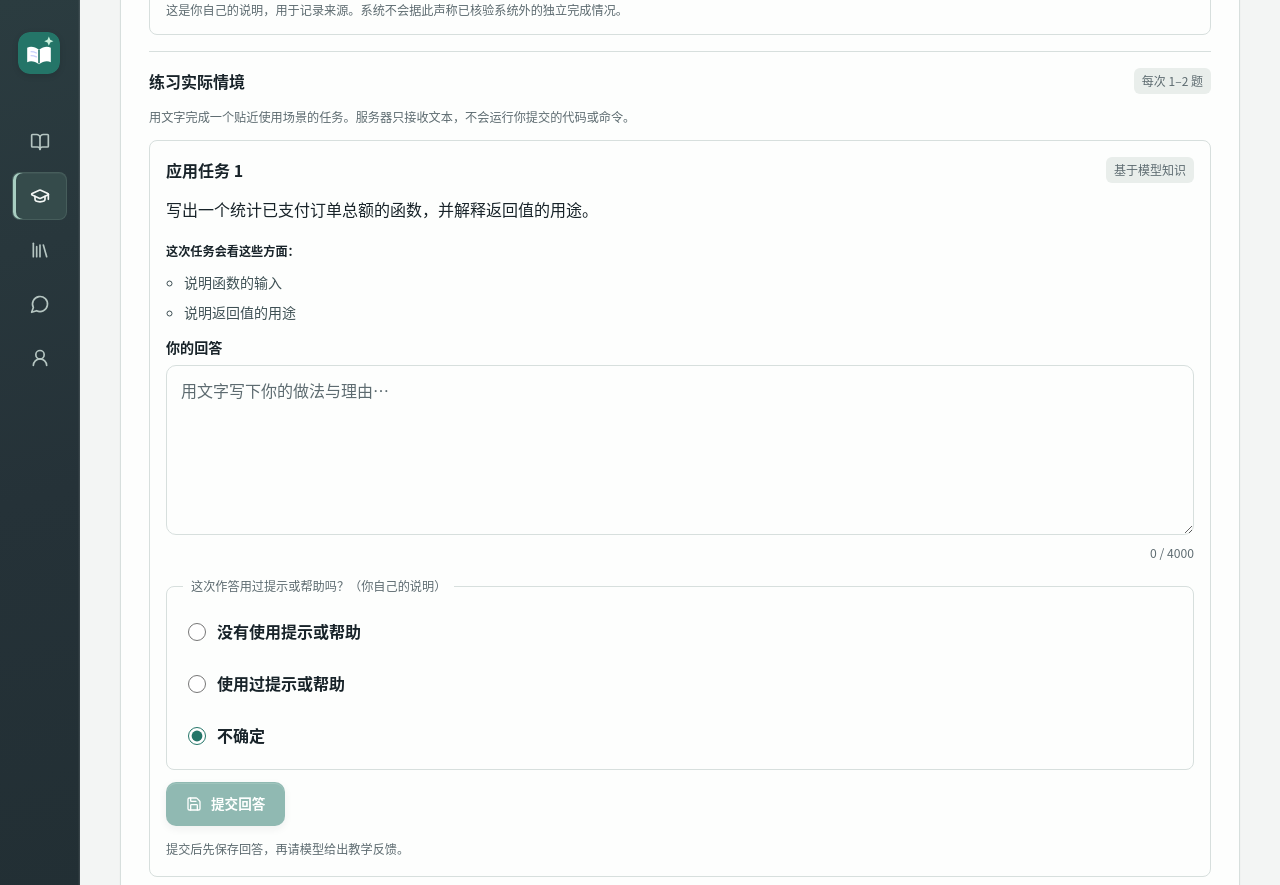
Test: course text application task › recovers a lost answer receipt through the assessment without another POST
(page scrolled)
Type "先过滤已支付订单，再汇总金额。" into the text box labelled "你的回答" at [680, 450], box [166, 365, 1194, 535]
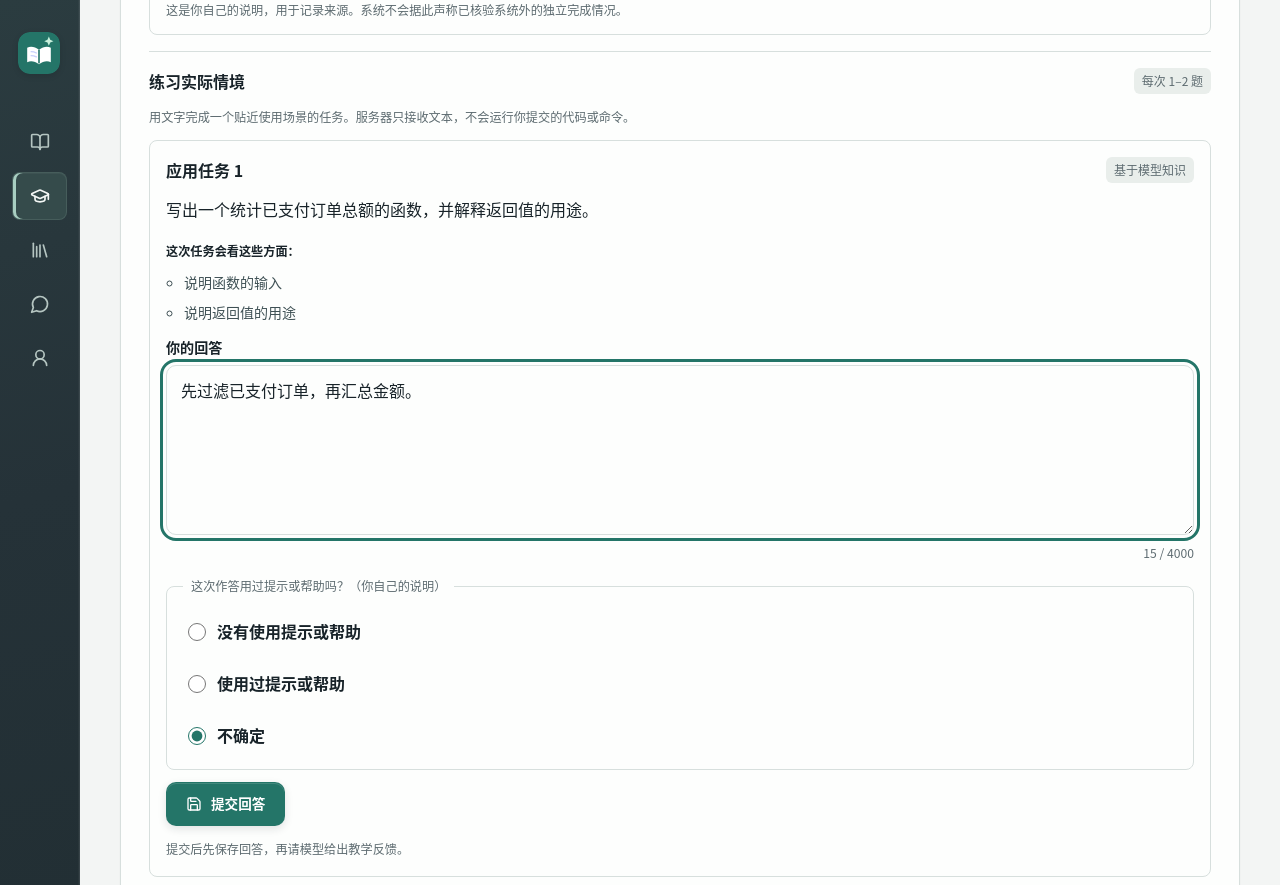
Click the button "提交回答" at [226, 804], box [166, 782, 285, 826]
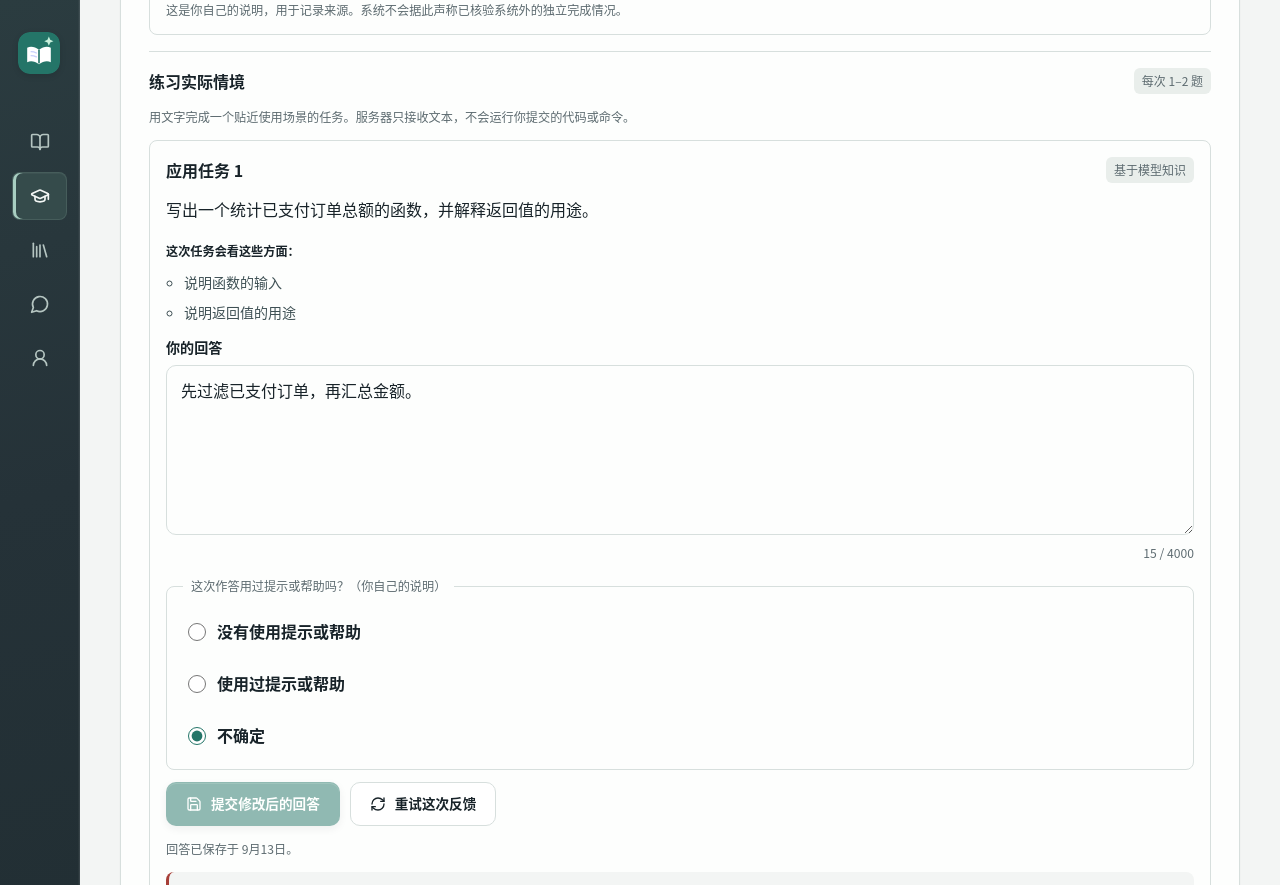
Expected: the text "回答已保存于" is shown, [166, 840, 298, 858]
